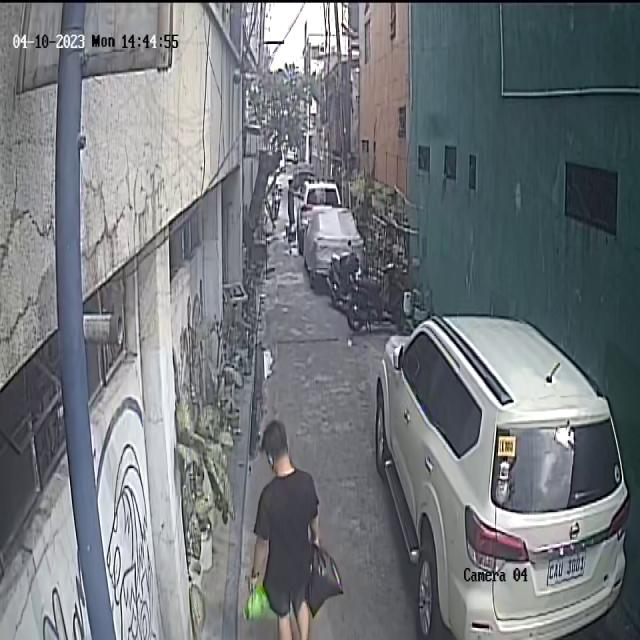human: (244, 421, 344, 640)
trash: (310, 540, 343, 618), (245, 578, 271, 622)
